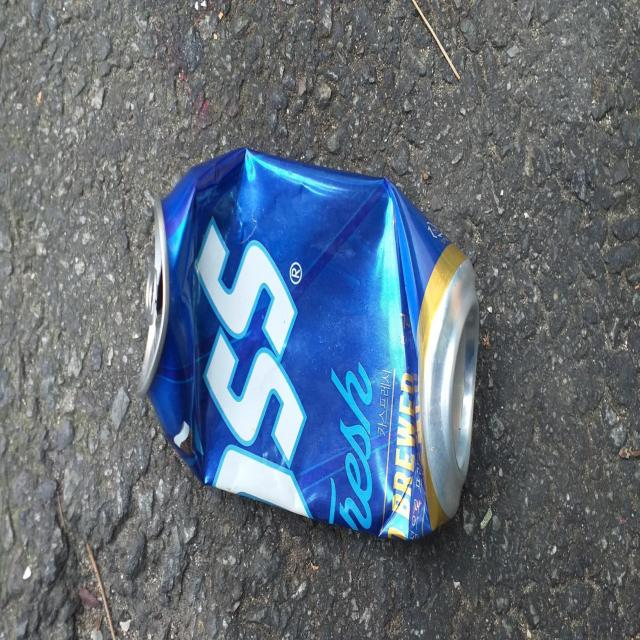can: (137, 147, 480, 540)
